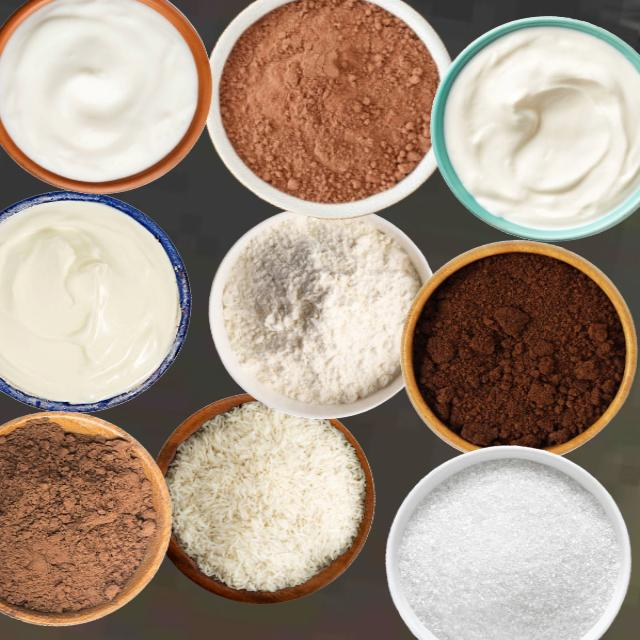Cocoa: (218, 0, 440, 204), (0, 412, 170, 625)
Coffee: (411, 248, 627, 449)
Flour: (220, 213, 420, 405)
Sugar: (396, 458, 621, 639)
